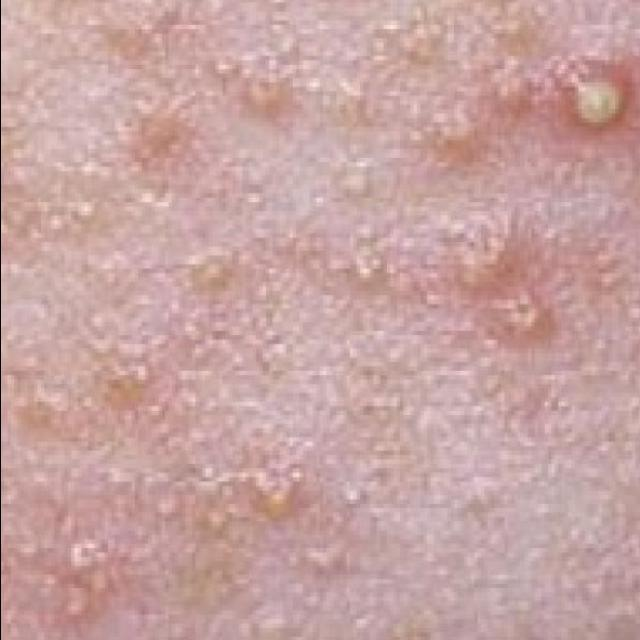whitehead: (201, 25, 462, 525)
